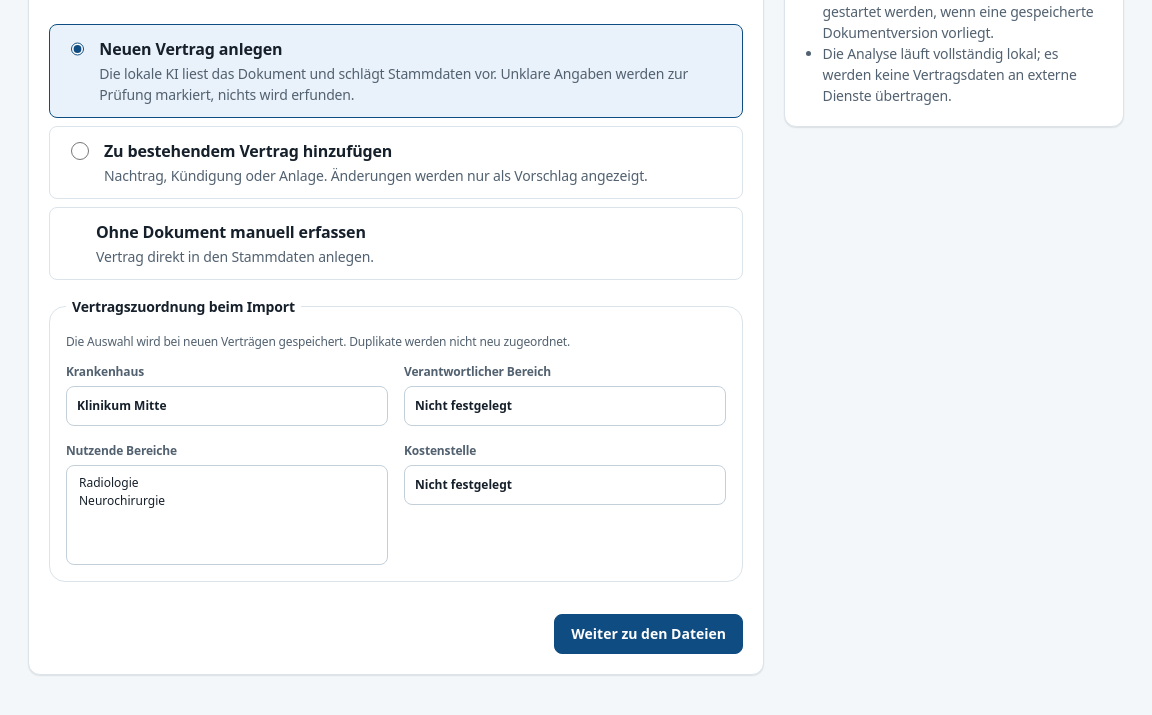
Test: Import (FE-08) › führt in Schritten: Ziel, Dateien, Prüfen & starten, Ergebnis
(page scrolled)
Step 1. Click the button "Weiter zu den Dateien" → click(649, 634), box 554,614 -> 743,654
(page scrolled)
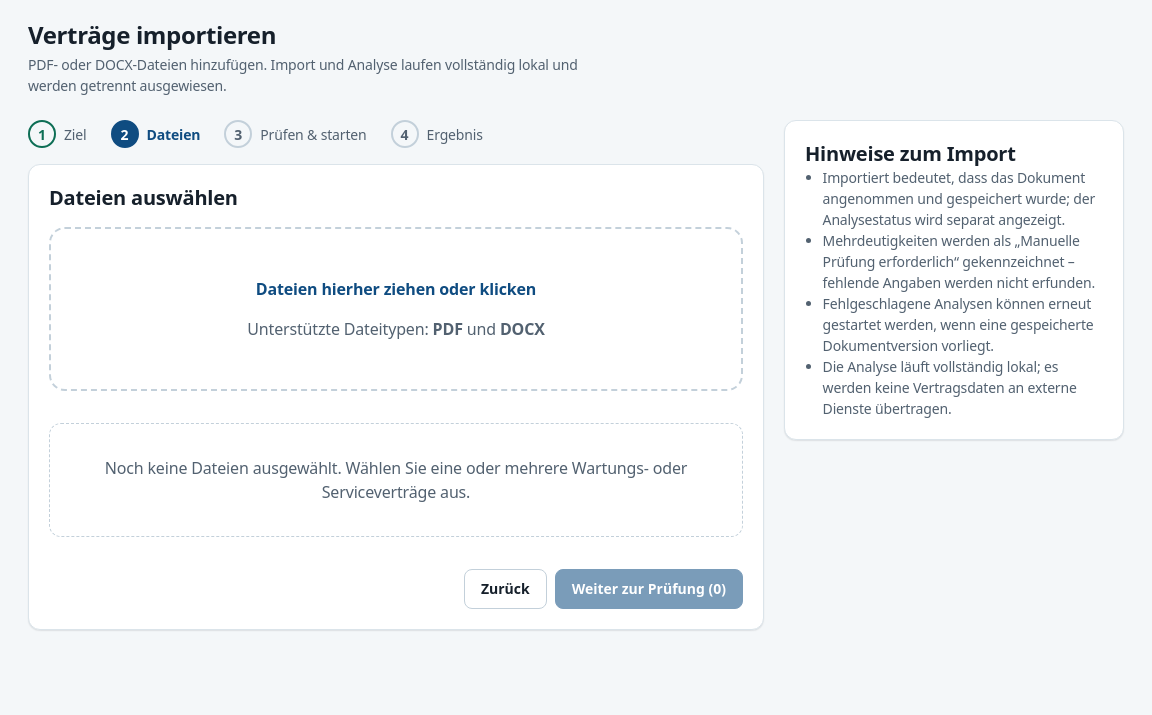
Now the heading "Dateien auswählen" is shown, box 49,184 -> 238,211
Now the text "Noch keine Dateien ausgewählt" is shown, box 105,457 -> 687,503
Now the button "Weiter zur Prüfung (0)" is disabled, box 555,569 -> 743,609
